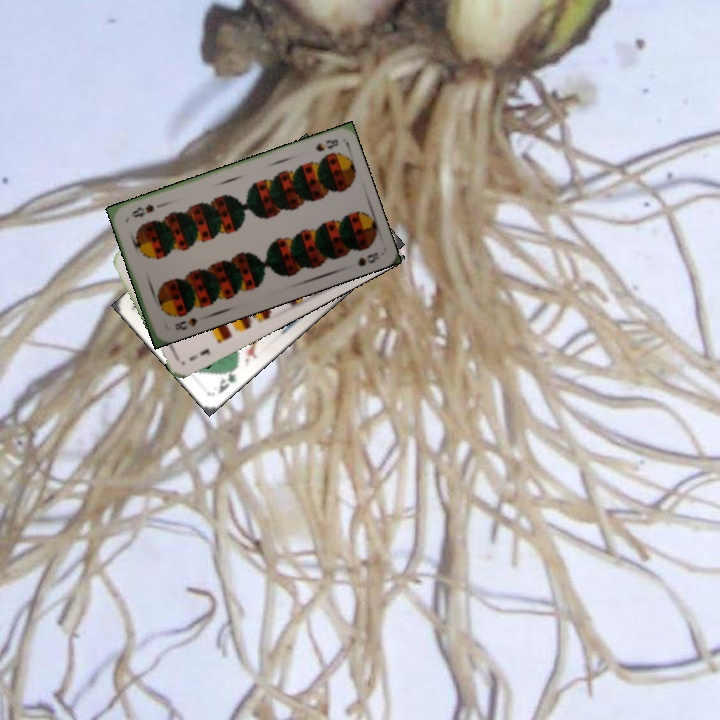E7: (185, 344, 213, 363)
GK: (214, 363, 239, 396)
S8: (170, 313, 200, 333), (311, 135, 341, 154)
